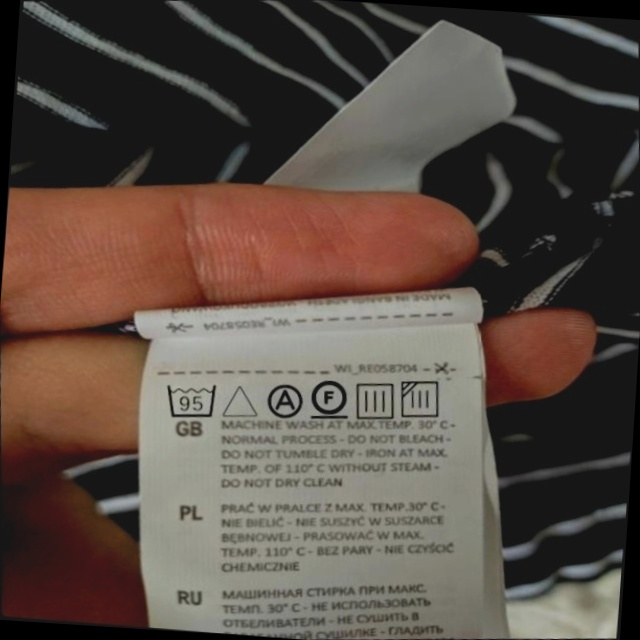95C: (162, 377, 222, 423)
bleach: (220, 378, 259, 423)
drip_dry: (351, 376, 399, 423)
drip_dry_in_shade: (398, 375, 448, 424)
dry_clean: (263, 380, 305, 421)
dry_clean_petrol_only: (308, 373, 352, 423)
